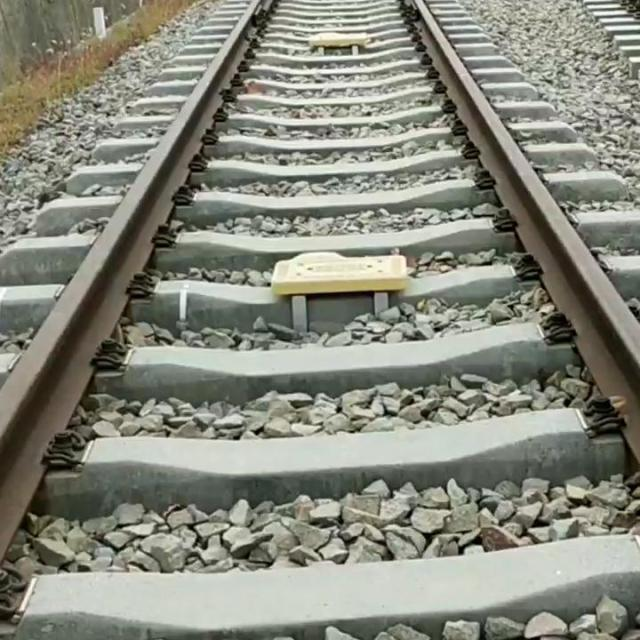rail: (0, 0, 263, 556), (415, 0, 640, 462)
